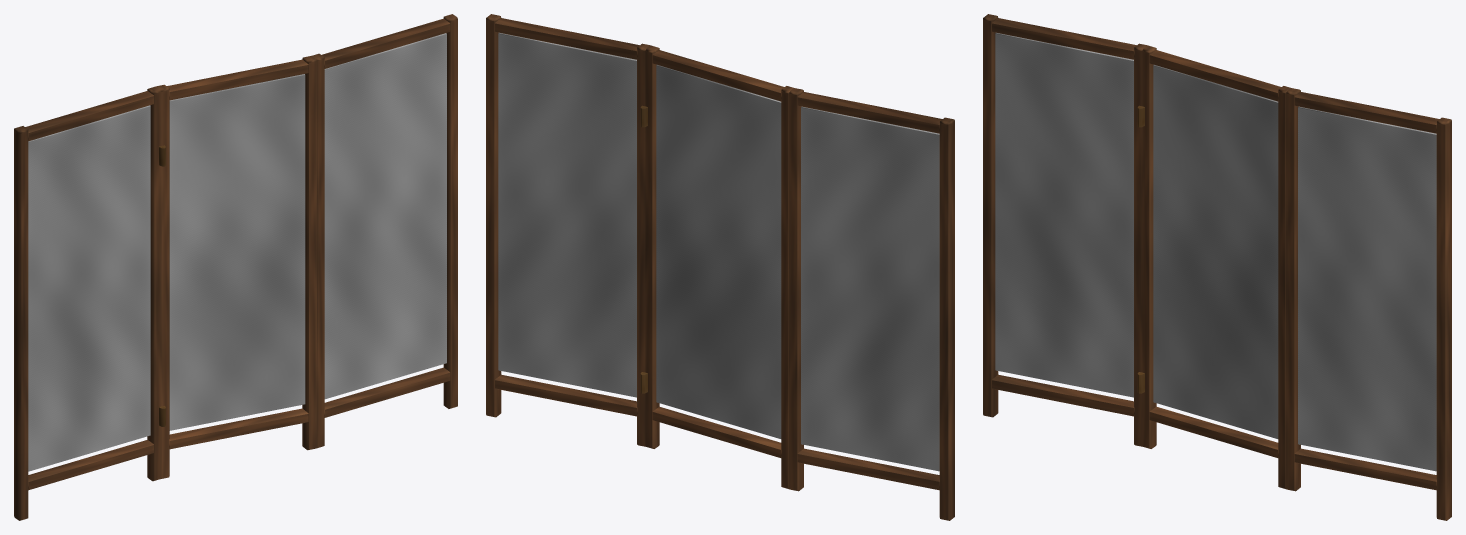
The model's file is Furn_Moment_FoldingScreen.fbx.
The picture shows the model from 3 angles, left to right: view 1: azimuth 30°, elevation 25°; view 2: azimuth 150°, elevation 25°; view 3: azimuth 330°, elevation 25°; orthographic projection. The views are drawn at different scales.
Parts seen in each view (by area): view 1: Furn_Moment_FoldingScreen; view 2: Furn_Moment_FoldingScreen; view 3: Furn_Moment_FoldingScreen.
Boxes of the visible parts, x1,y1,x2,y2 form: Furn_Moment_FoldingScreen: (14,14,457,520); Furn_Moment_FoldingScreen: (486,14,954,520); Furn_Moment_FoldingScreen: (983,14,1451,520).
Bounding box in the file's own units: 1.8 × 1.5 × 0.1.
Materials: 3 (3 with a texture image).
